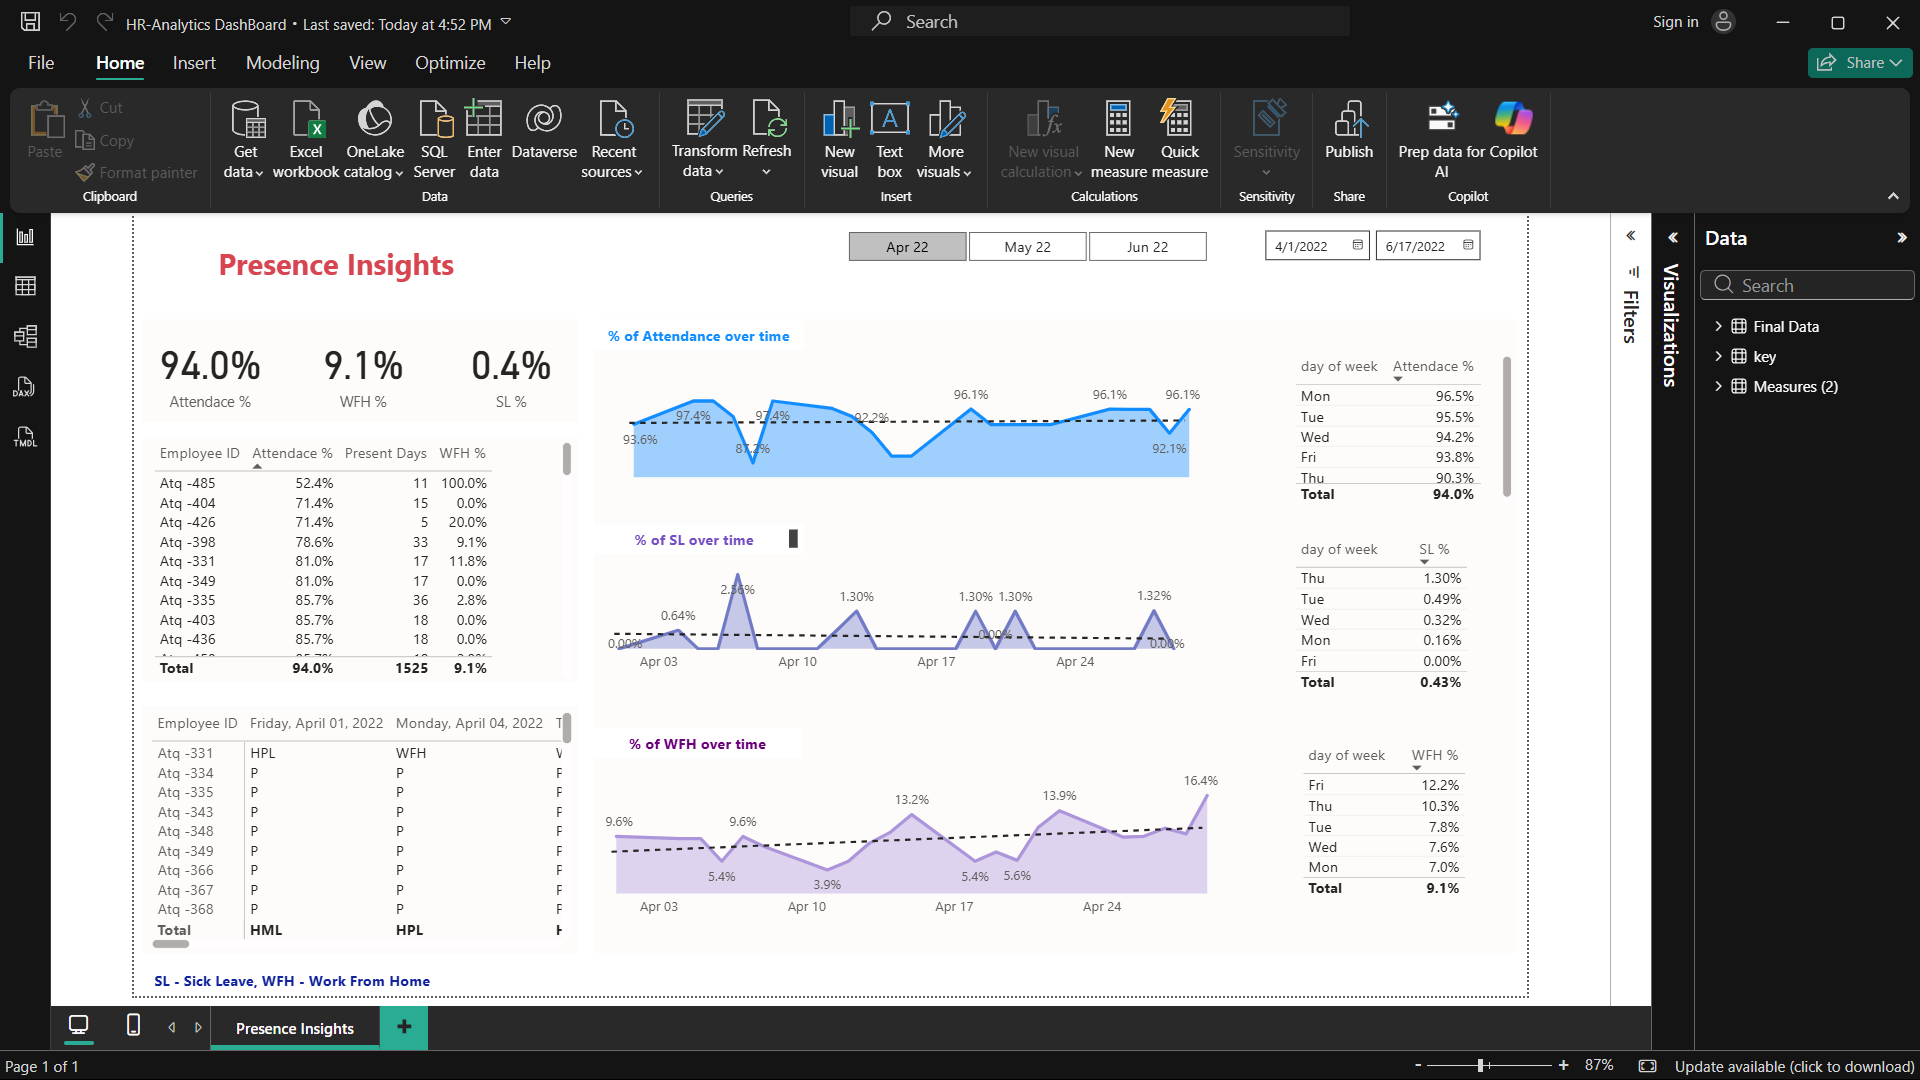

Layout of this report page (visuals, bound fields, positions):
{"tool":"powerbi","page":{"name":"Presence Insights","canvas":[1280,720],"ordinal":0},"visuals":[{"type":"textbox","box":[7.8,205.6,399.9,225.5],"z":0},{"type":"textbox","box":[7.8,453.3,399.8,227.6],"z":1000},{"type":"textbox","box":[422.3,97.9,848.1,582.3],"z":2000},{"type":"textbox","box":[7.8,98,399.9,95.4],"z":3000},{"type":"tableEx","fields":{"Values":["Final Data.Employee ID","Measures (2).Attendace %","Measures (2).Present Days","Measures (2).WFH %"]},"box":[12.6,205.2,394.9,225.7],"z":4000},{"type":"slicer","fields":{"Values":["Final Data.Date"]},"box":[1027.3,5.2,252.7,46.3],"z":5000},{"type":"slicer","fields":{"Values":["Final Data.MMM YY"]},"box":[630.4,10.5,379.5,35.8],"z":6000},{"type":"areaChart","fields":{"Category":["Final Data.MMM YY","Final Data.Date"],"Y":["Measures (2).WFH %"]},"box":[420.7,502.3,589,153.5],"z":7000},{"type":"areaChart","fields":{"Category":["Final Data.WeekNo","Final Data.Date"],"Y":["Measures (2).Attendace %"]},"box":[444.1,144.9,540.4,103.2],"z":8000},{"type":"card","fields":{"Values":["Measures (2).Attendace %"]},"box":[7.8,98,124,96.3],"z":9000},{"type":"card","fields":{"Values":["Measures (2).WFH %"]},"box":[141.4,98,138.8,96.3],"z":10000},{"type":"areaChart","fields":{"Category":["Final Data.MMM YY","Final Data.Date"],"Y":["Measures (2).SL %"]},"box":[422.5,307.1,556,124],"z":11000},{"type":"card","fields":{"Values":["Measures (2).SL %"]},"box":[286.3,97.2,121.4,96.3],"z":13000},{"type":"textbox","box":[25.6,5.8,320.9,70.9],"z":14000},{"type":"textbox","box":[422.4,98.2,192.5,27.5],"z":15000},{"type":"textbox","box":[422.5,286.3,192.6,26.9],"z":16000},{"type":"textbox","box":[422.1,473.7,192.6,27.2],"z":17000},{"type":"pivotTable","fields":{"Rows":["Final Data.Employee ID"],"Columns":["Final Data.Date"],"Values":["Min(Final Data.Value)"]},"box":[11.7,453.3,395.9,227.6],"z":18000},{"type":"textbox","box":[13.6,691.6,289.8,28.2],"z":19000},{"type":"tableEx","fields":{"Values":["Final Data.day of week","Measures (2).Attendace %"]},"box":[1060.9,125.8,209.9,145.7],"z":20000},{"type":"tableEx","fields":{"Values":["Final Data.day of week","Measures (2).SL %"]},"box":[1060.9,294.1,191.7,167.4],"z":21000},{"type":"tableEx","fields":{"Values":["Final Data.day of week","Measures (2).WFH %"]},"box":[1068.7,483.2,170,167.4],"z":22000}]}

Visuals, with their boxes on the page's 1280x720 design canvas (x1, y1, x2, y2). These are canvas units, not pixel positions in the 1920x1080 screenshot, which may show the page scaled, cropped or inside an application window:
textbox: BBox(8, 206, 408, 431)
textbox: BBox(8, 453, 408, 681)
textbox: BBox(422, 98, 1270, 680)
textbox: BBox(8, 98, 408, 193)
tableEx - Final Data.Employee ID x Measures (2).Attendace %: BBox(13, 205, 408, 431)
slicer - Final Data.Date: BBox(1027, 5, 1280, 52)
slicer - Final Data.MMM YY: BBox(630, 10, 1010, 46)
areaChart - Final Data.MMM YY x Final Data.Date: BBox(421, 502, 1010, 656)
areaChart - Final Data.WeekNo x Final Data.Date: BBox(444, 145, 984, 248)
card - Measures (2).Attendace %: BBox(8, 98, 132, 194)
card - Measures (2).WFH %: BBox(141, 98, 280, 194)
areaChart - Final Data.MMM YY x Final Data.Date: BBox(422, 307, 978, 431)
card - Measures (2).SL %: BBox(286, 97, 408, 194)
textbox: BBox(26, 6, 346, 77)
textbox: BBox(422, 98, 615, 126)
textbox: BBox(422, 286, 615, 313)
textbox: BBox(422, 474, 615, 501)
pivotTable - Final Data.Employee ID x Final Data.Date: BBox(12, 453, 408, 681)
textbox: BBox(14, 692, 303, 720)
tableEx - Final Data.day of week x Measures (2).Attendace %: BBox(1061, 126, 1271, 272)
tableEx - Final Data.day of week x Measures (2).SL %: BBox(1061, 294, 1253, 462)
tableEx - Final Data.day of week x Measures (2).WFH %: BBox(1069, 483, 1239, 651)
